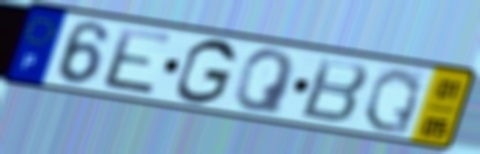6: (55, 19, 114, 89)
B: (297, 55, 372, 126)
E: (100, 24, 176, 99)
G: (172, 37, 240, 107)
Q: (231, 47, 298, 117), (360, 65, 425, 137)
